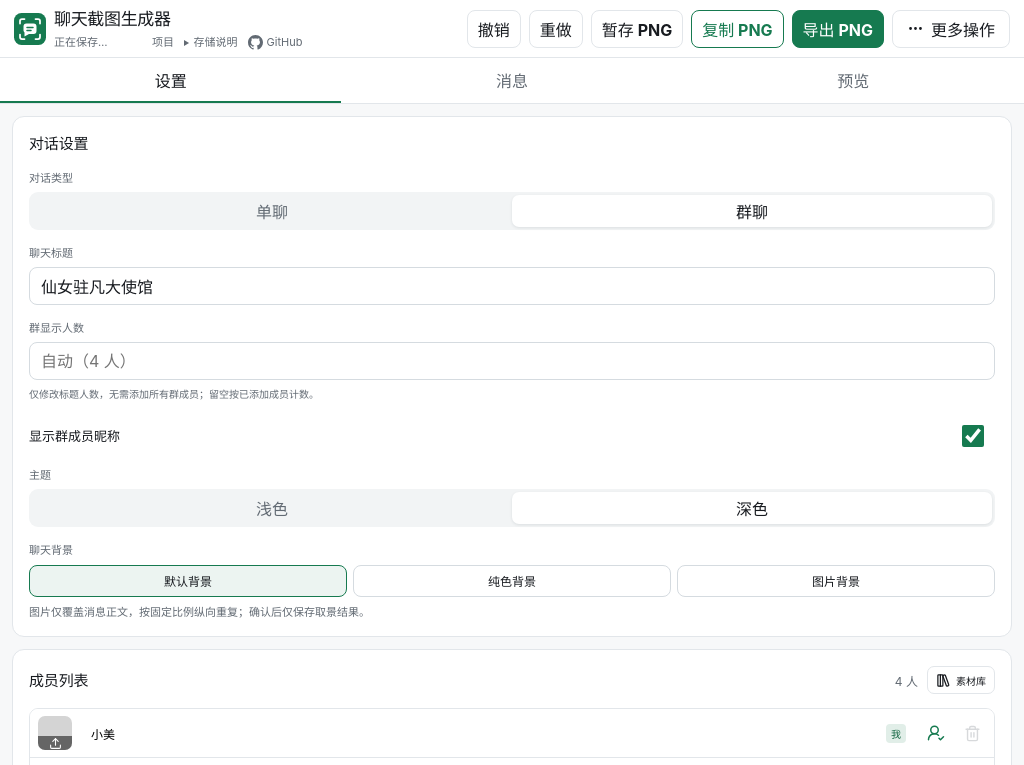
Test: App PNG clipboard delivery › preserves resource errors and restores controls without any delivery
The image size is (1024, 765).
Click the button "复制 PNG" at (737, 28), box [691,10,784,48]
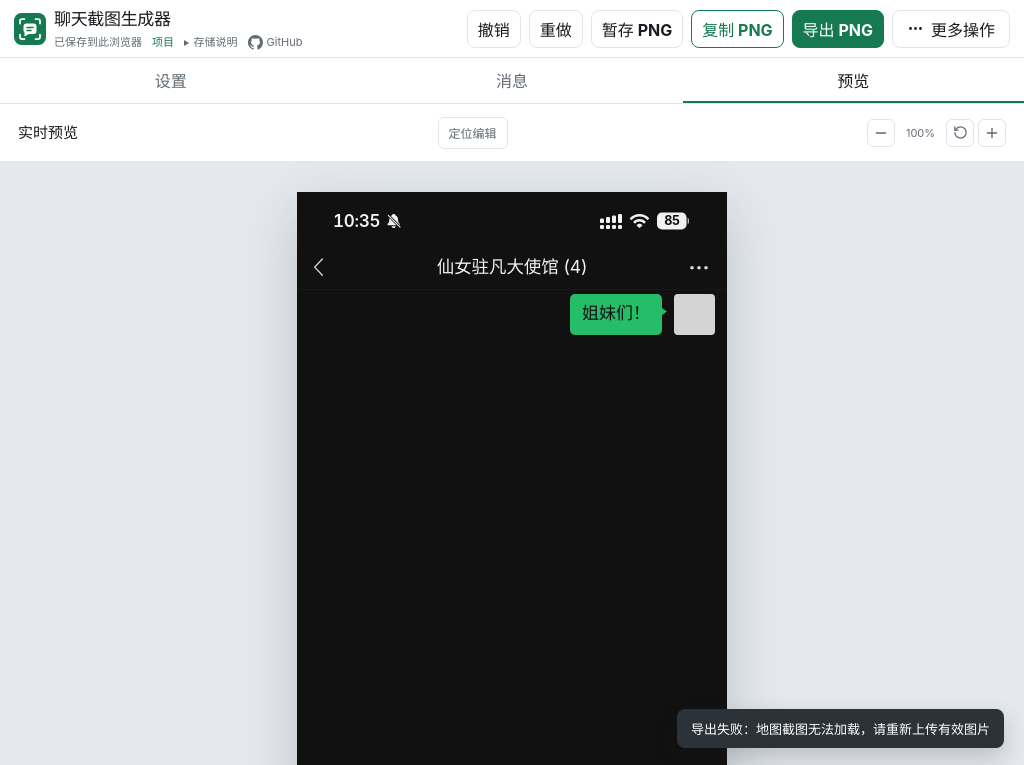
Now the text "导出失败：地图截图无法加载，请重新上传有效图片" is shown, box [677,709,1004,748]
